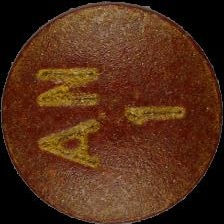68788-9501: (0, 0, 224, 224)
